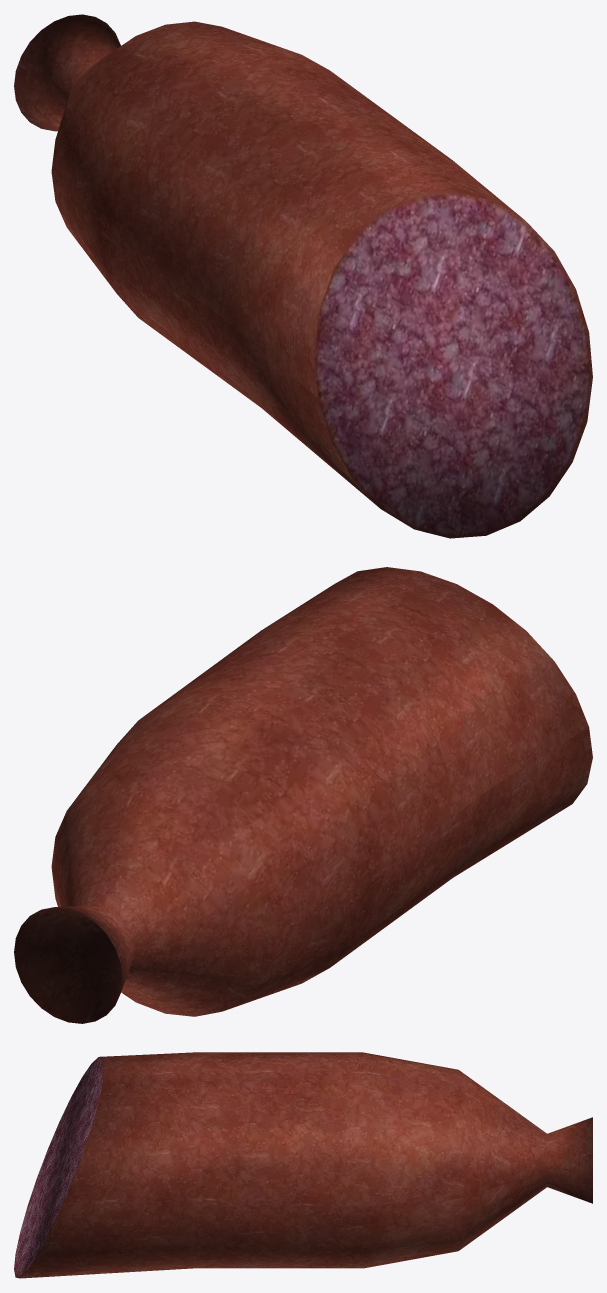
File: Food_Sausage_Single.glb
3 renders of one model, top to bottom at view 1: azimuth 30°, elevation 25°; view 2: azimuth 150°, elevation 25°; view 3: azimuth 270°, elevation 25°, orthographic. The views are drawn at different scales.
Parts seen in each view (by area): view 1: Food_Sausage_Single; view 2: Food_Sausage_Single; view 3: Food_Sausage_Single.
Boxes of the visible parts, bbox=[...] form: Food_Sausage_Single: bbox=[14, 14, 592, 538]; Food_Sausage_Single: bbox=[14, 567, 592, 1023]; Food_Sausage_Single: bbox=[14, 1052, 592, 1278].
Size of the model in its own units: 0.0889 by 0.0937 by 0.2375.
1 material, 1 textured.
